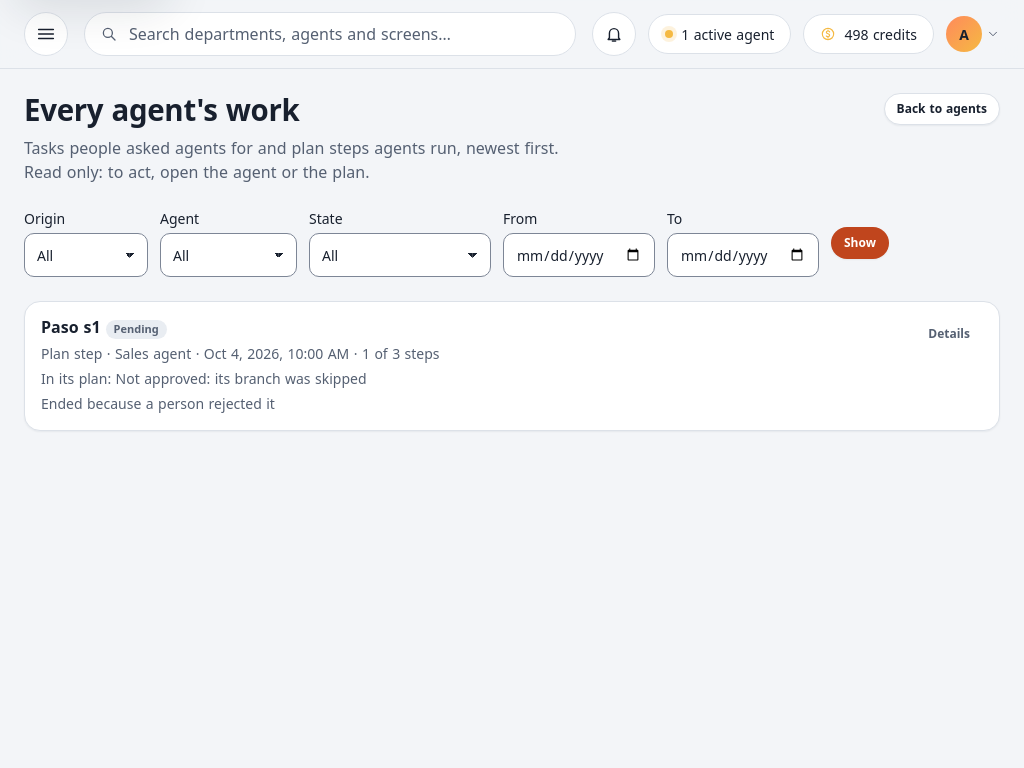
Test: Every agent's work (ADR-0148) › opens a plan step with its plan, its state there, what it waits on and its approval
The width and height of the screenshot is (1024, 768).
Expected: the text "Ended because a person rejected it" is shown, [41, 394, 275, 413]
Click the button "Details".
click(949, 334)  # box [915, 318, 983, 350]
(page scrolled)
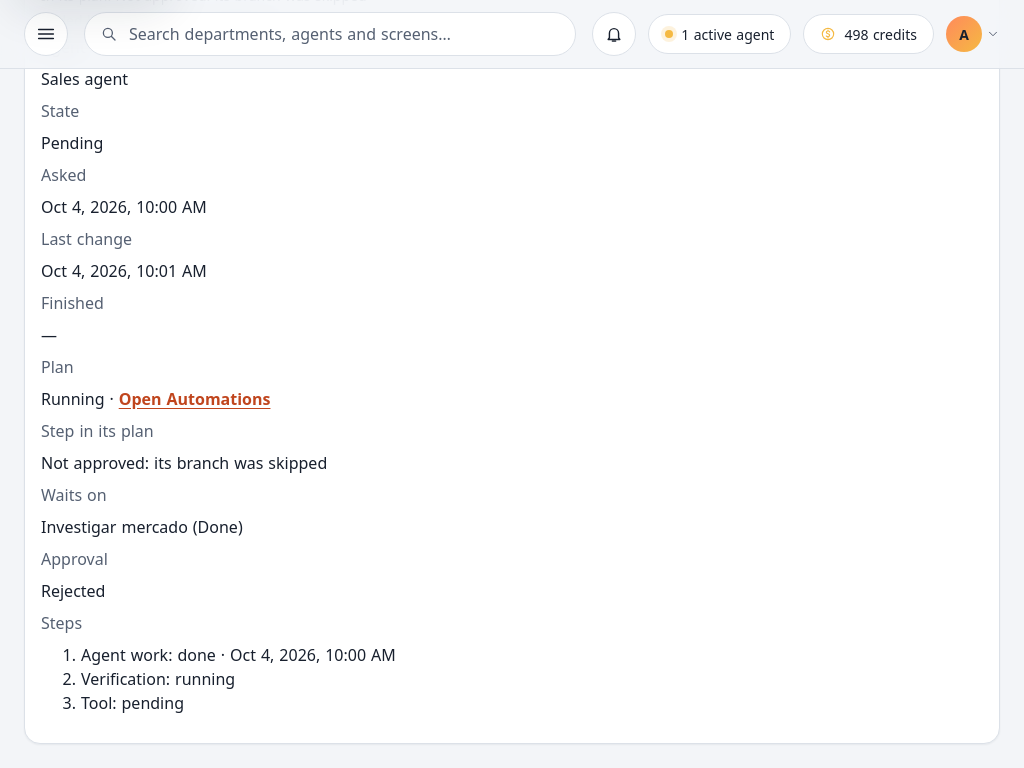
Expected: the text "Running · Open Automations" is shown, [41, 388, 270, 410]
Expected: the link "Open Automations" is shown, [119, 388, 270, 410]
Expected: the text "Not approved: its branch was skipped" is shown, [41, 452, 327, 474]
